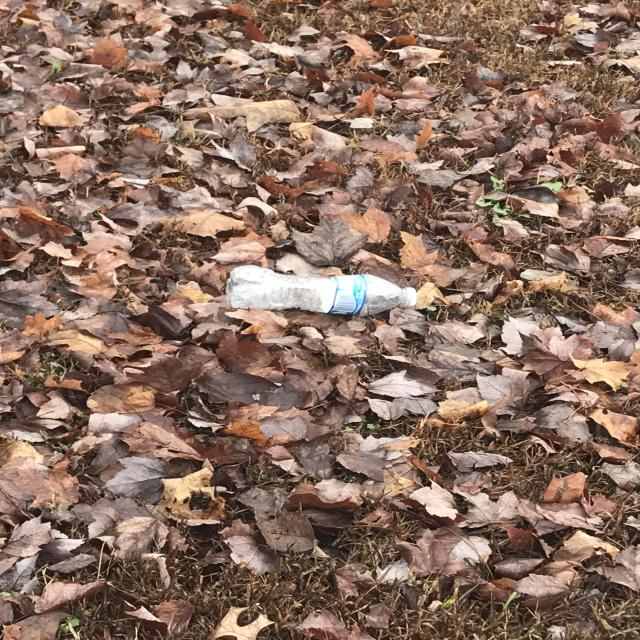litter: (193, 253, 459, 334)
